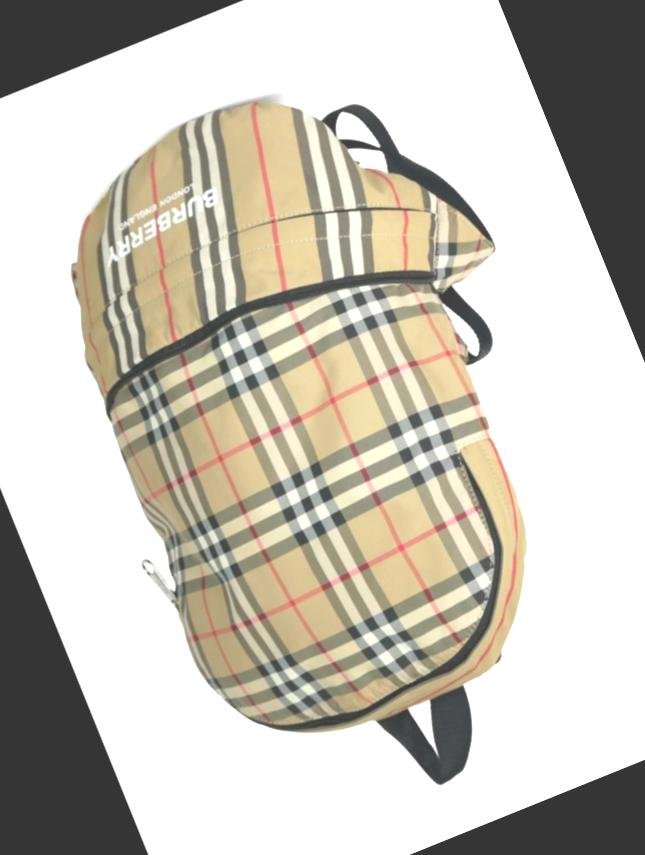BURBERRY: (94, 185, 227, 264)
